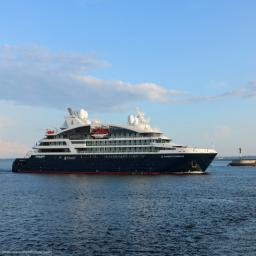cruises: (12, 105, 220, 177)
